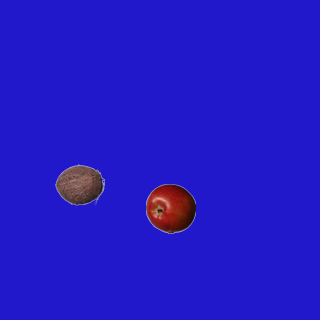Apple Braeburn: (145, 183, 195, 233)
Cocos: (54, 159, 104, 209)
